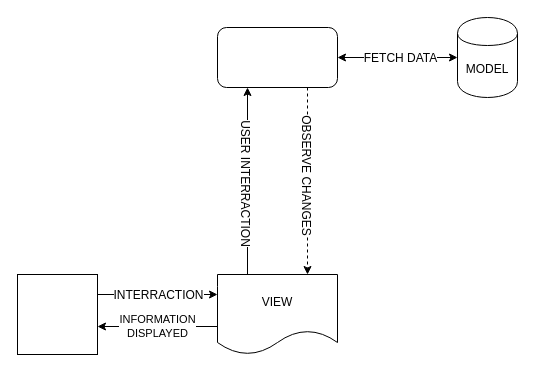
Image size: 535x372. Some labels were removed from this diagram. Each missing label, with the centre of its shape:
"USER" goes at point 57,314.
"VIEWMODEL" goes at point 277,57.
